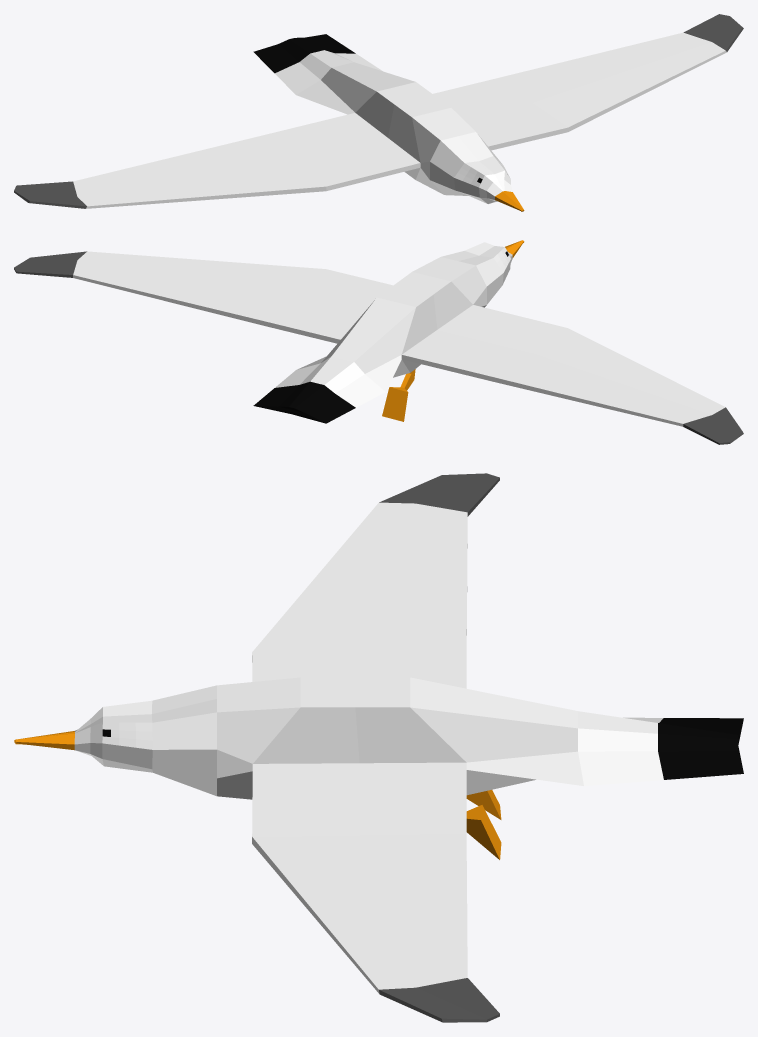
Rendered from seagull-low-poly.glb.
3 renders of one model, top to bottom at view 1: azimuth 30°, elevation 25°; view 2: azimuth 150°, elevation 25°; view 3: azimuth 270°, elevation 25°, orthographic. The views are drawn at different scales.
Visible parts, largest first — view 1: Bird1; view 2: Bird1; view 3: Bird1.
Part boxes in pixels (bbox=[...]): Bird1: bbox=[14, 14, 743, 211]; Bird1: bbox=[14, 240, 743, 444]; Bird1: bbox=[14, 473, 743, 1022].
Size of the model in its own units: 1.64 by 0.1965 by 0.9259.
10 materials, 10 textured.
